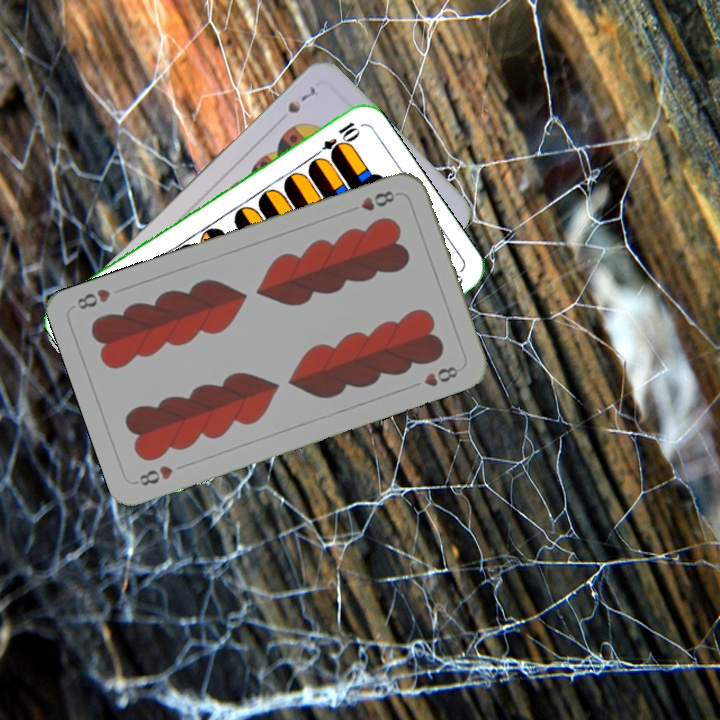E10: (309, 118, 362, 162)
H8: (344, 186, 398, 215), (132, 461, 176, 489)
S7: (284, 82, 322, 116)
